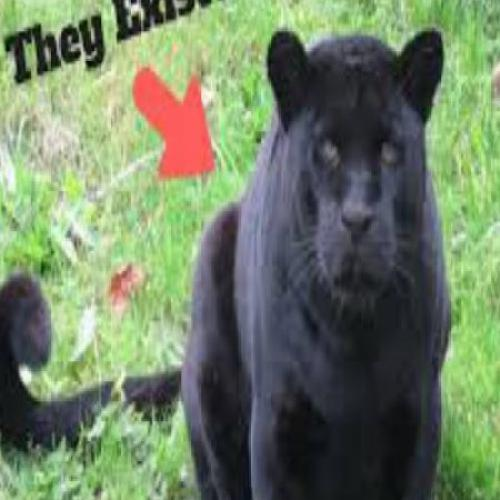panther-endangered: (180, 28, 450, 500)
